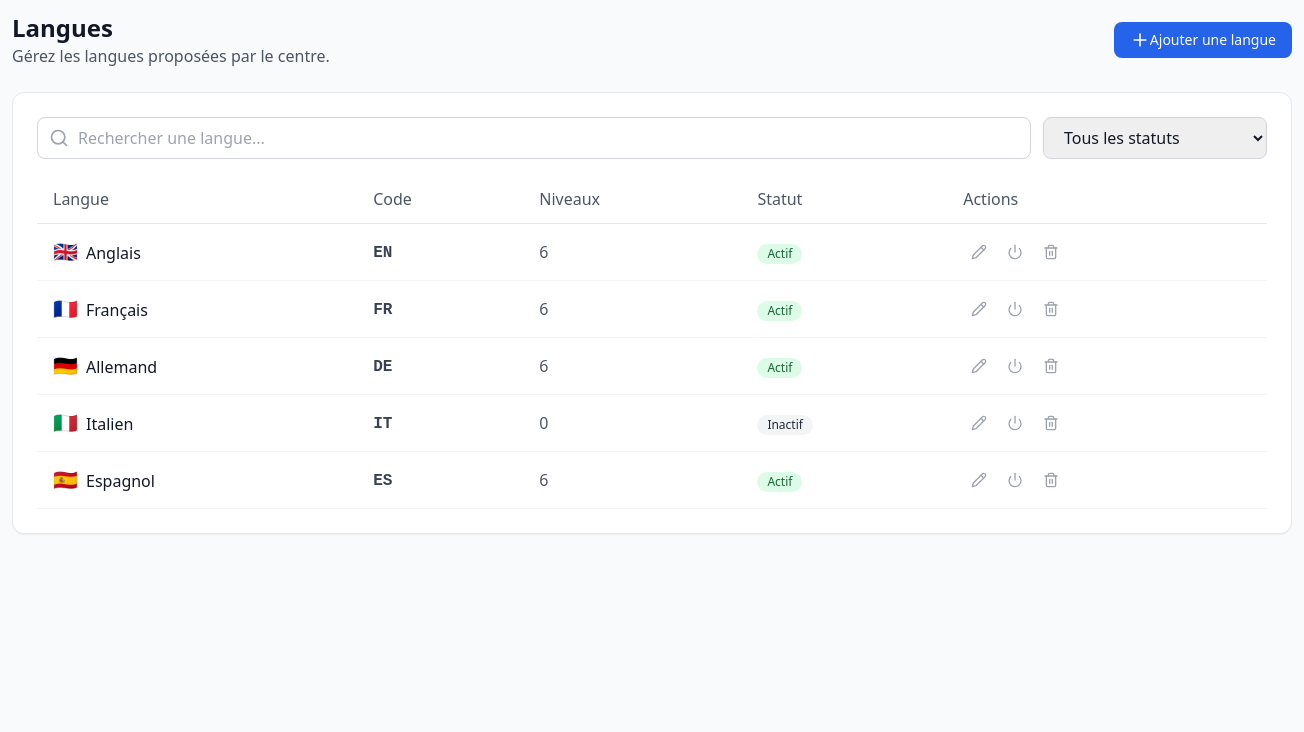
it: Languages page (démo locale) › filters languages by status
The image size is (1304, 732).
Select "Inactif" in the dropdown named "Filtrer par statut": (1155, 138) [1043,117,1267,159]
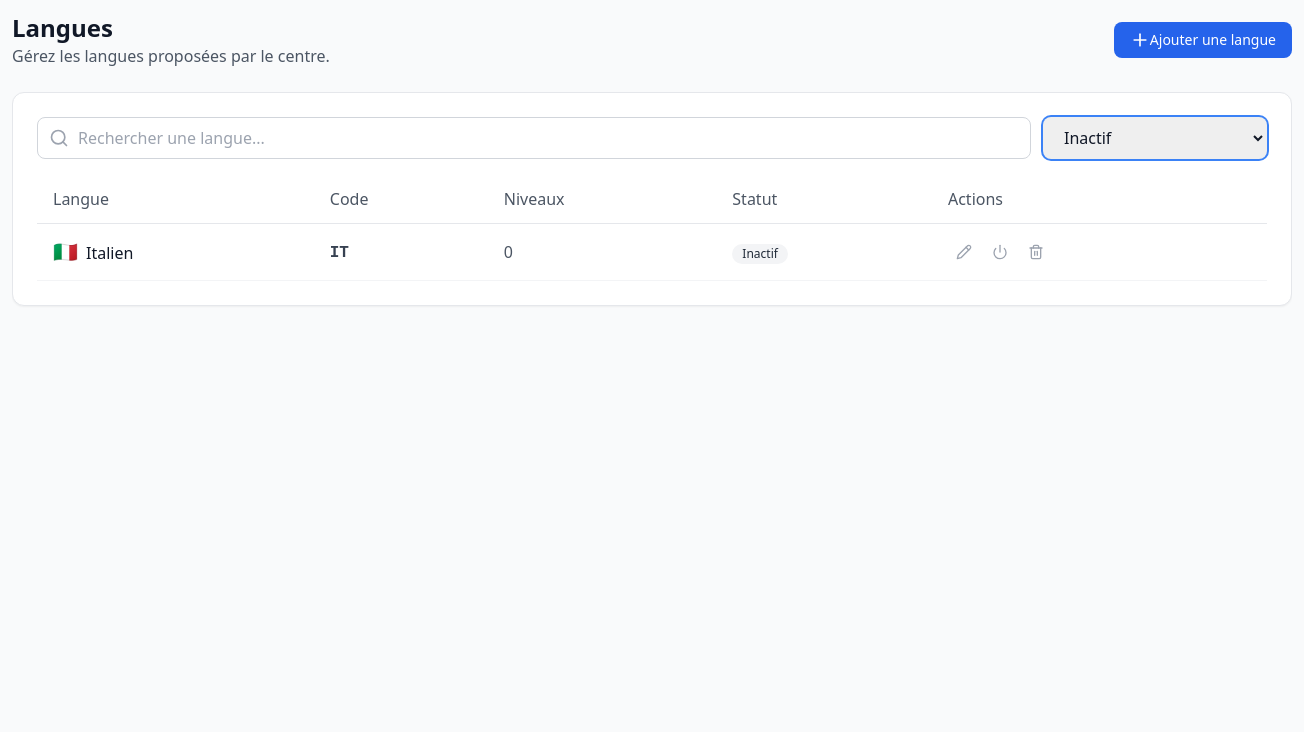
Check: the text "Italien" is shown, box [86,242,133,264]
Check: the text "Anglais" is gone
